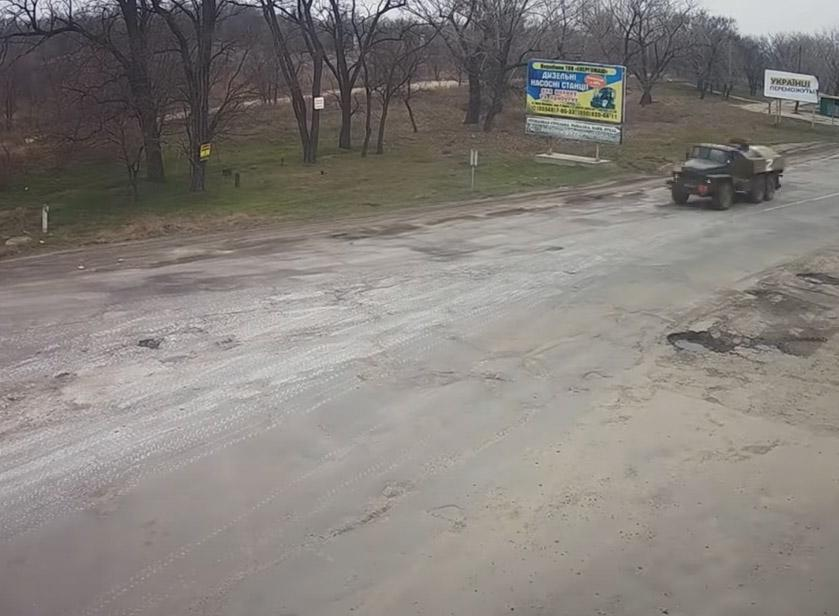truck: (670, 137, 784, 222)
